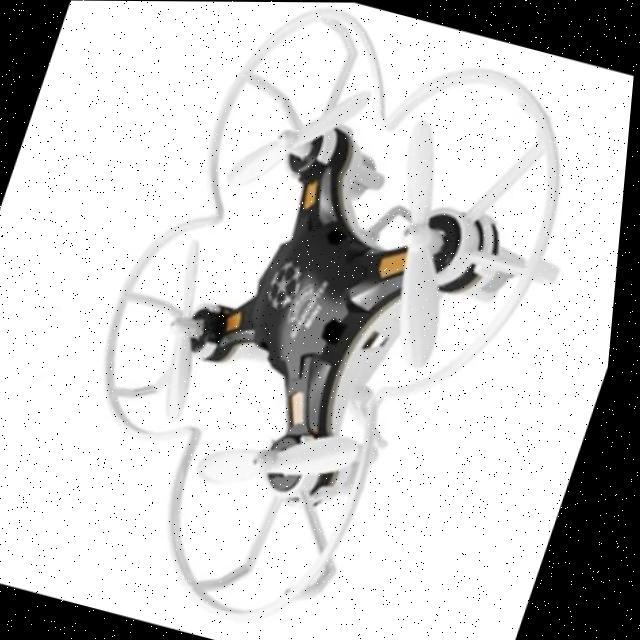drones: (20, 0, 640, 640)
